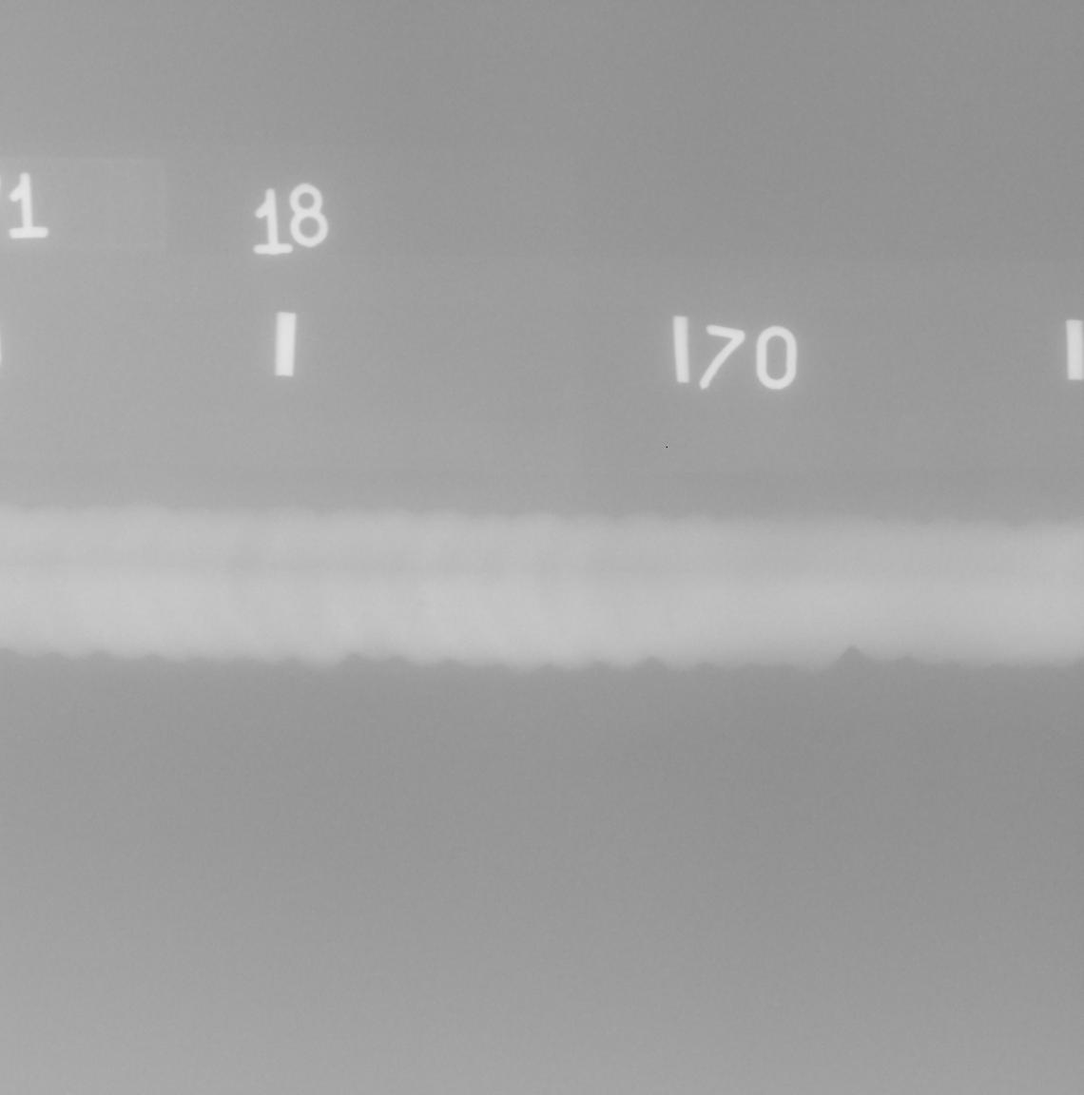Inclusion: (418, 601, 427, 607), (823, 580, 828, 584)
